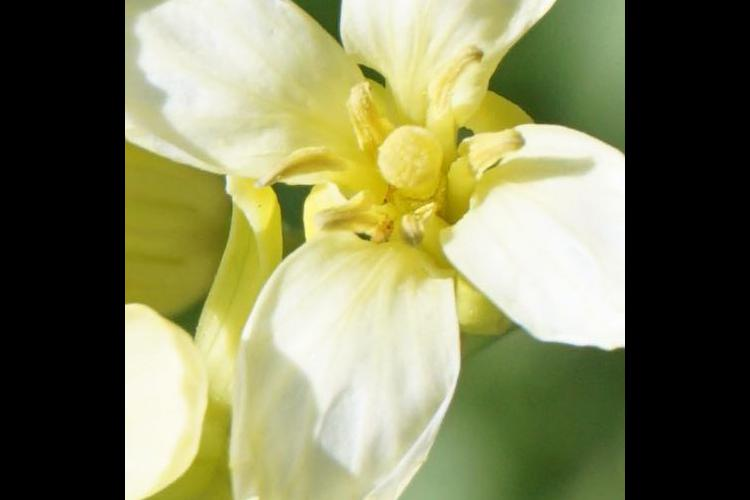white: (227, 1, 602, 500)
